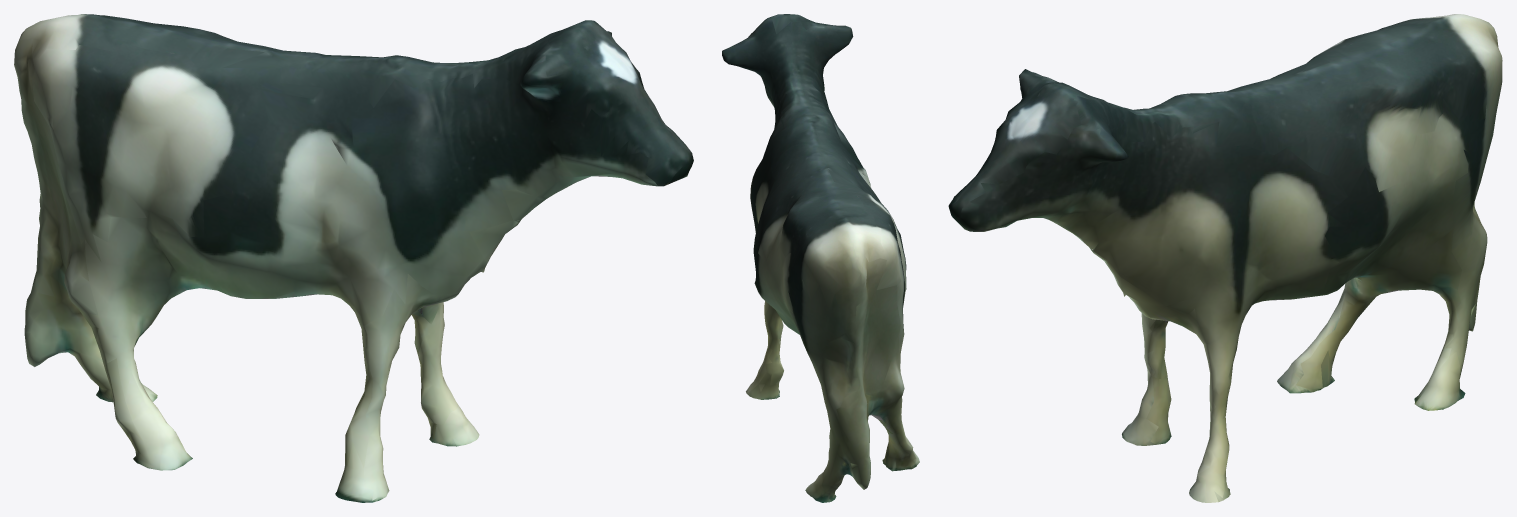
File: Cattle_typ3.glb
The picture shows the model from 3 angles, left to right: view 1: azimuth 30°, elevation 25°; view 2: azimuth 150°, elevation 25°; view 3: azimuth 270°, elevation 25°; orthographic projection. The views are drawn at different scales.
Visible parts, largest first — view 1: Component#58; view 2: Component#58; view 3: Component#58.
Part boxes in pixels (x1,y1,x2,y2): Component#58: [14, 14, 693, 502]; Component#58: [722, 14, 919, 502]; Component#58: [948, 14, 1502, 502].
Bounding box in the file's own units: 1.53 × 1.65 × 1.94.
Materials: 6 (4 with a texture image).
